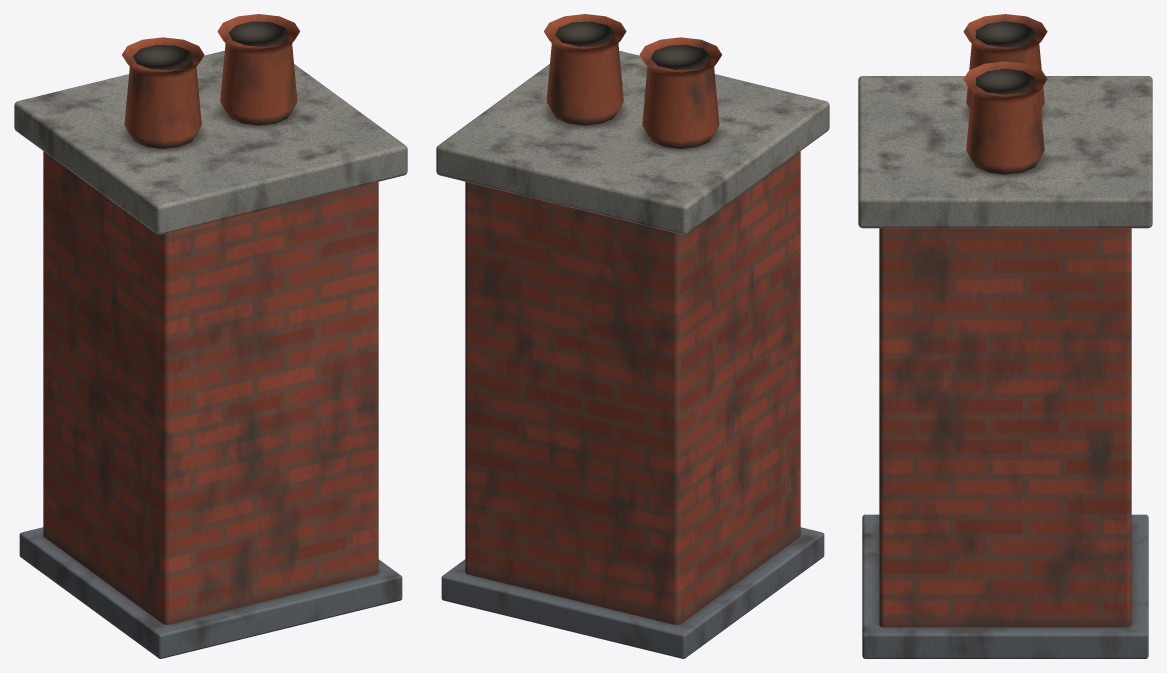
The model's file is dach_komin.glb.
The picture shows the model from 3 angles, left to right: view 1: azimuth 30°, elevation 25°; view 2: azimuth 150°, elevation 25°; view 3: azimuth 270°, elevation 25°; orthographic projection.
Parts seen in each view (by area): view 1: Komin; view 2: Komin; view 3: Komin.
Boxes of the visible parts, x1=… form: Komin: x1=14, y1=14, x2=407, y2=658; Komin: x1=436, y1=14, x2=829, y2=658; Komin: x1=858, y1=14, x2=1152, y2=658.
Bounding box in the file's own units: 1.05 × 2.14 × 1.05.
Materials: 1 (1 with a texture image).
